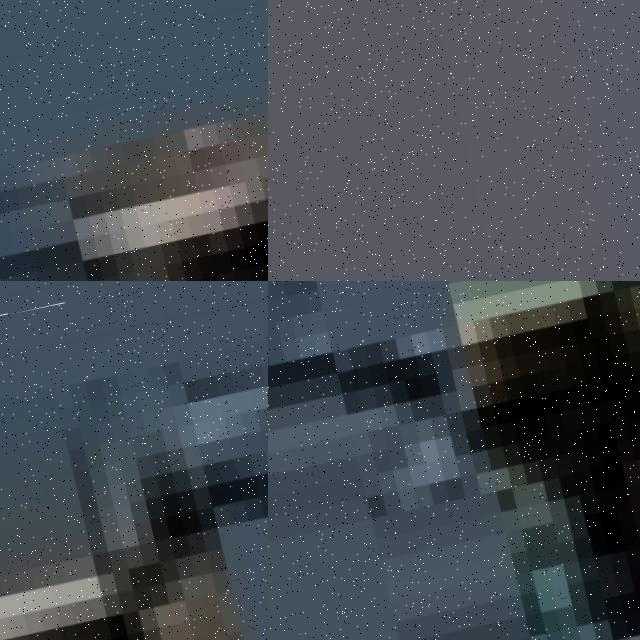drone: (268, 281, 640, 640), (0, 281, 268, 640), (0, 0, 268, 281)
